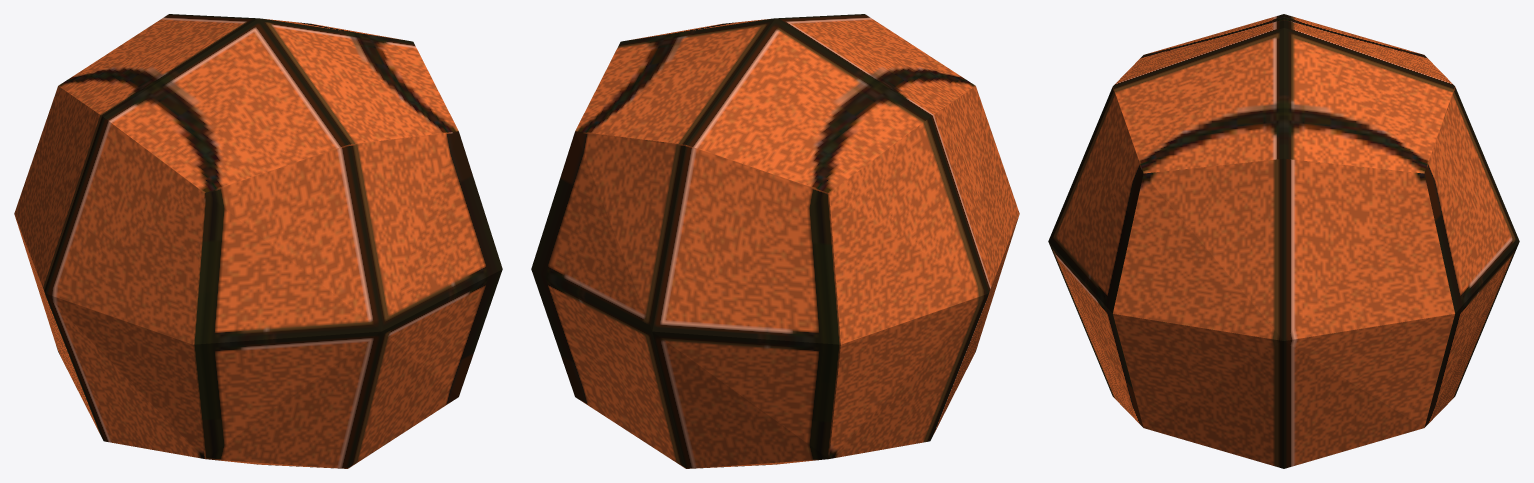
File: Basketball01.obj
The picture shows the model from 3 angles, left to right: view 1: azimuth 30°, elevation 25°; view 2: azimuth 150°, elevation 25°; view 3: azimuth 270°, elevation 25°; orthographic projection. The views are drawn at different scales.
Visible parts, largest first — view 1: Basketball01; view 2: Basketball01; view 3: Basketball01.
Boxes of the visible parts, x1,y1,x2,y2 form: Basketball01: (14, 14, 502, 468); Basketball01: (531, 14, 1019, 468); Basketball01: (1048, 14, 1519, 468).
Size of the model in its own units: 0.7556 by 0.7556 by 0.7556.
